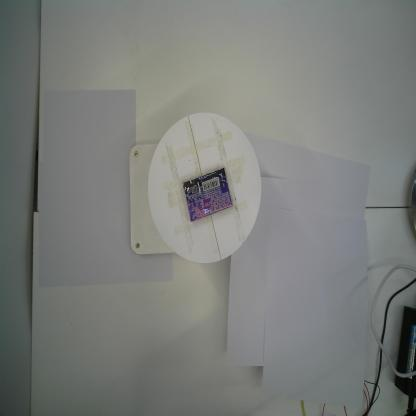Gum: (182, 167, 232, 221)
